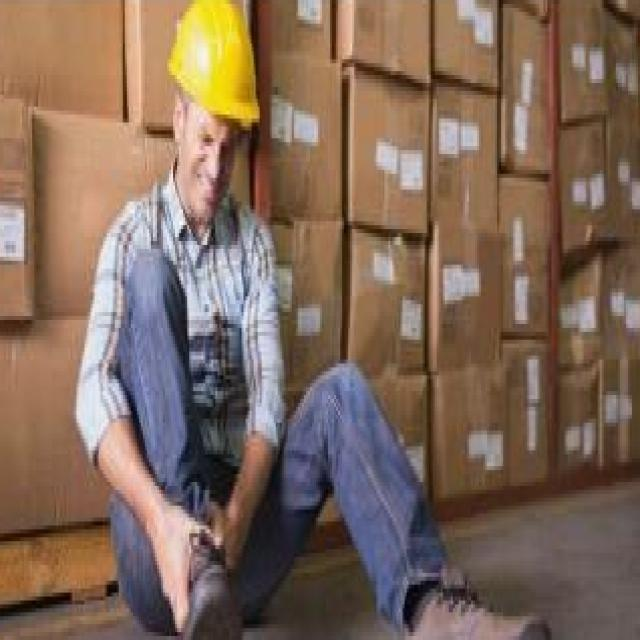hard_hat: (155, 0, 263, 229)
shoes: (171, 521, 557, 639)
